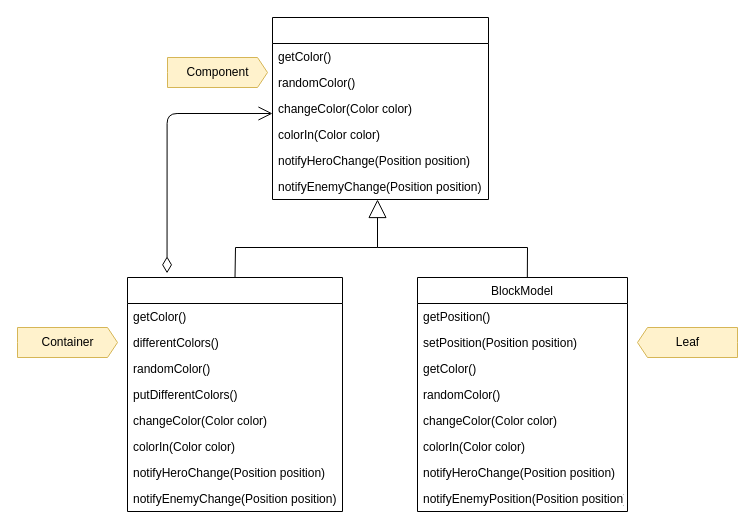
This 755x532 diagram has some shape labels left out. Here are the shapes that lost their labels. From the top down, the box of each, then its label:
(272, 16, 488, 200): BlockComposite
(126, 276, 342, 512): BlockGroup
